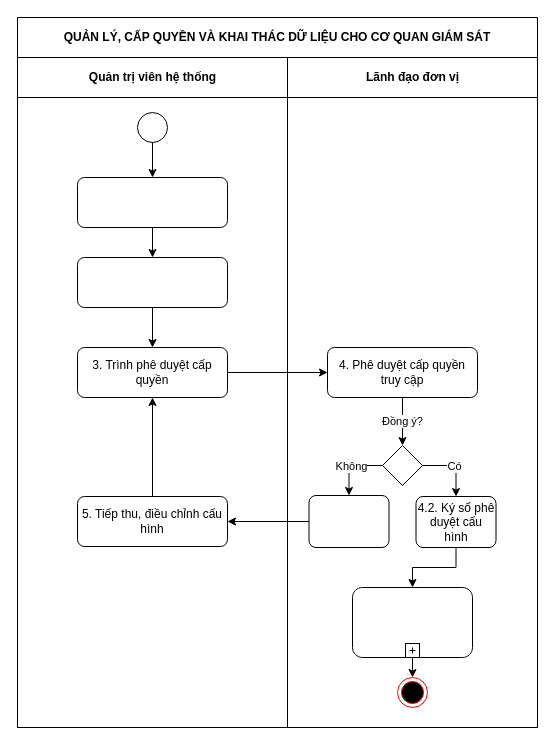
Image size: 555x745. Some labels were removed from this diagram. Each missing label, with the centre of its shape:
1. Tiếp nhận yêu cầu cấp quyền giám sát: the point at 152,202
2. Cấu hình phân quyền và phạm vi dữ liệu: the point at 152,282
4.1. Trả lại yêu cầu chỉnh sửa: the point at 348,521
6. Khai thác dữ liệu & Ghi nhật ký giám sát: the point at 412,622
